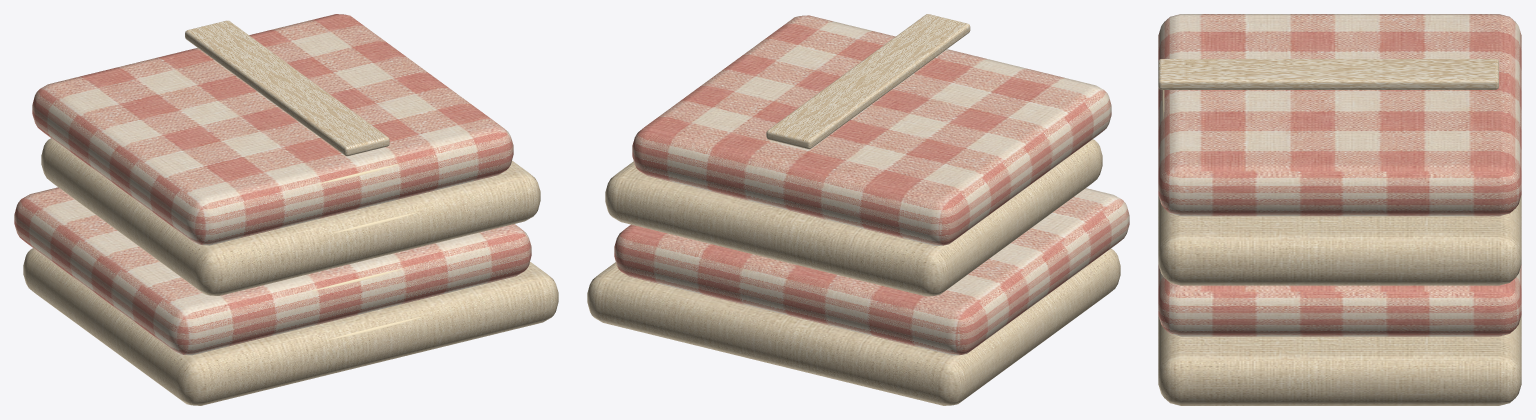
Rendered from SM_InteriorAdditions_TowelStack.fbx.
3 renders of one model, left to right at view 1: azimuth 30°, elevation 25°; view 2: azimuth 150°, elevation 25°; view 3: azimuth 270°, elevation 25°, orthographic. The views are drawn at different scales.
Visible parts, largest first — view 1: SM_InteriorAdditions_TowelStack; view 2: SM_InteriorAdditions_TowelStack; view 3: SM_InteriorAdditions_TowelStack.
Part boxes in pixels (x1=…): SM_InteriorAdditions_TowelStack: x1=14, y1=14, x2=558, y2=405; SM_InteriorAdditions_TowelStack: x1=587, y1=14, x2=1129, y2=405; SM_InteriorAdditions_TowelStack: x1=1158, y1=14, x2=1521, y2=405.
Size of what is drawn, in the model's own units: 44 by 34 by 25.
